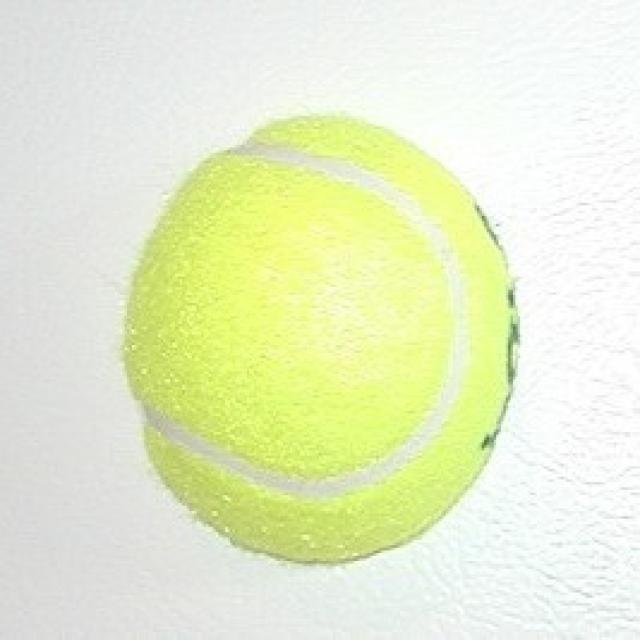ball: (120, 111, 522, 565)
